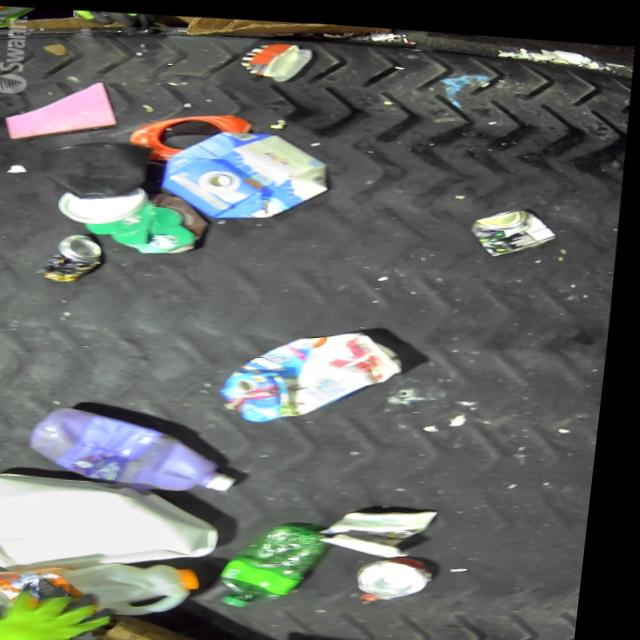can: (462, 190, 563, 258), (349, 542, 454, 603), (37, 231, 120, 284)
milk_jug: (0, 463, 237, 577), (0, 549, 210, 620)
plastic_bottle: (228, 518, 344, 615)
